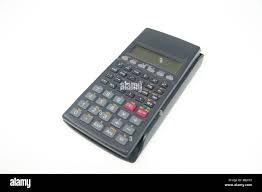Calculator: (59, 26, 215, 166)
